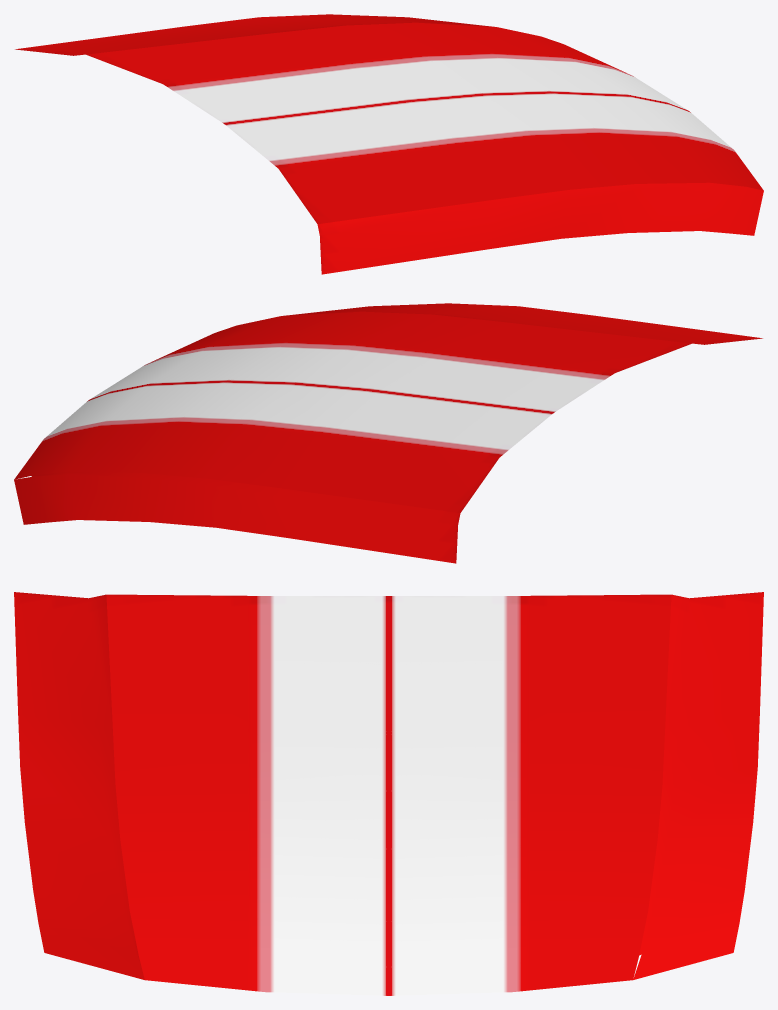
Rendered from cofre.obj.
3 views of the same model, one above another, from view 1: azimuth 30°, elevation 25°; view 2: azimuth 150°, elevation 25°; view 3: azimuth 270°, elevation 25° (orthographic). The views are drawn at different scales.
Visible parts, largest first — view 1: COFRE; view 2: COFRE; view 3: COFRE.
Part boxes in pixels (box(x1,y1,x2,y2)): COFRE: box(15, 14, 763, 274); COFRE: box(14, 303, 762, 563); COFRE: box(14, 592, 763, 995).
Bounding box in the file's own units: 7.12 × 1.35 × 7.27.
